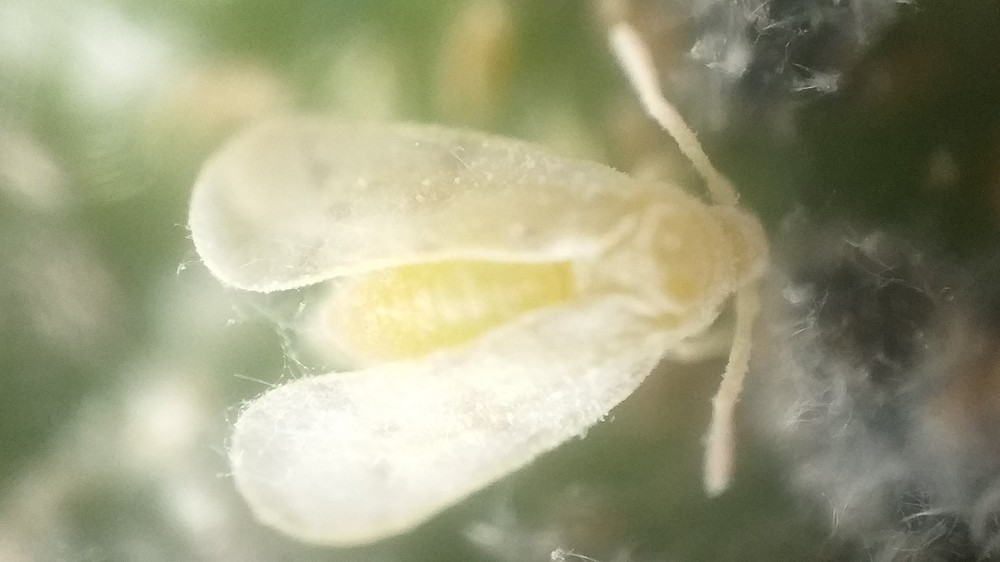Mosca Blanca: (179, 23, 789, 559)
